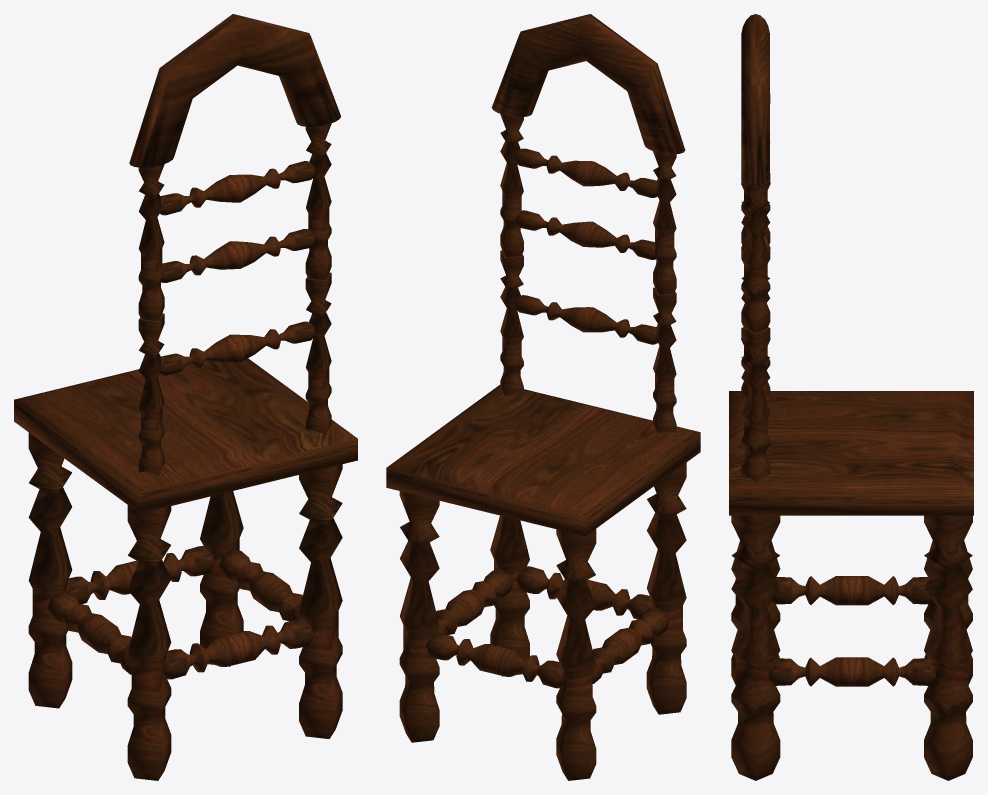
The model's file is ChairOrnateHP.fbx.
3 renders of one model, left to right at view 1: azimuth 30°, elevation 25°; view 2: azimuth 150°, elevation 25°; view 3: azimuth 270°, elevation 25°, orthographic. The views are drawn at different scales.
Parts seen in each view (by area): view 1: ChairOrnate; view 2: ChairOrnate; view 3: ChairOrnate.
Boxes of the visible parts, x1,y1,x2,y2 form: ChairOrnate: (14,14,357,780); ChairOrnate: (386,14,700,780); ChairOrnate: (729,14,973,780).
Bounding box in the file's own units: 57.41 × 186 × 57.41.
